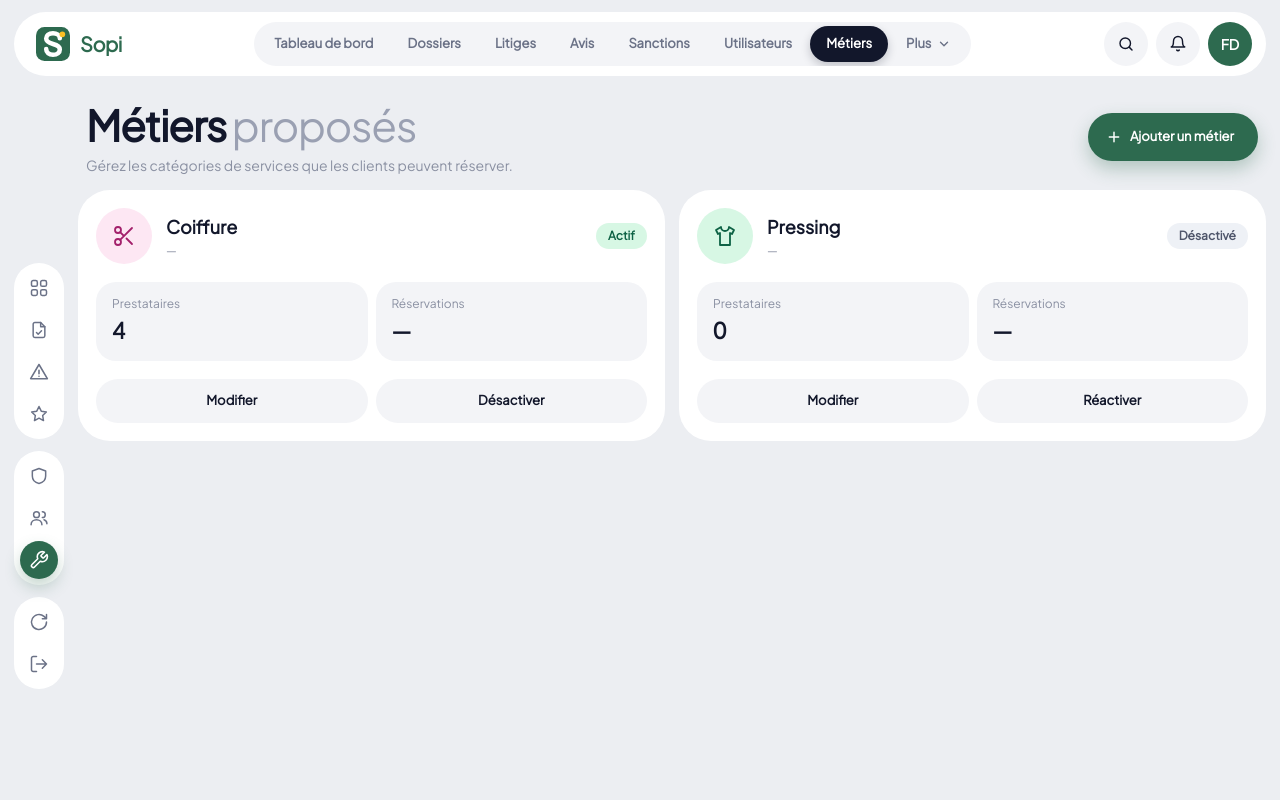
Test case: métiers › désactive un métier après confirmation (PATCH simulé)
Click the button with aria-label "Désactiver le métier Coiffure": x=511, y=401 [376, 379, 647, 423]
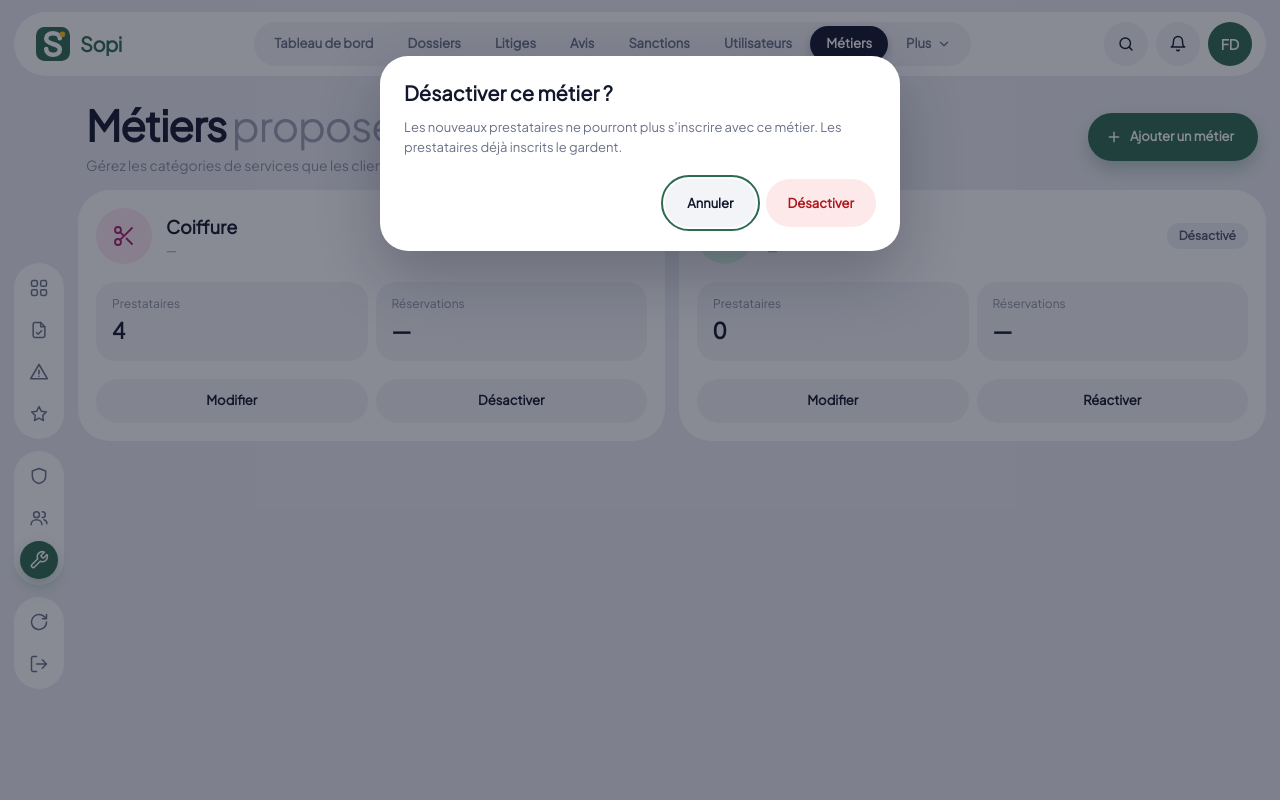
Click the button "Désactiver": x=821, y=203 [766, 179, 876, 227]
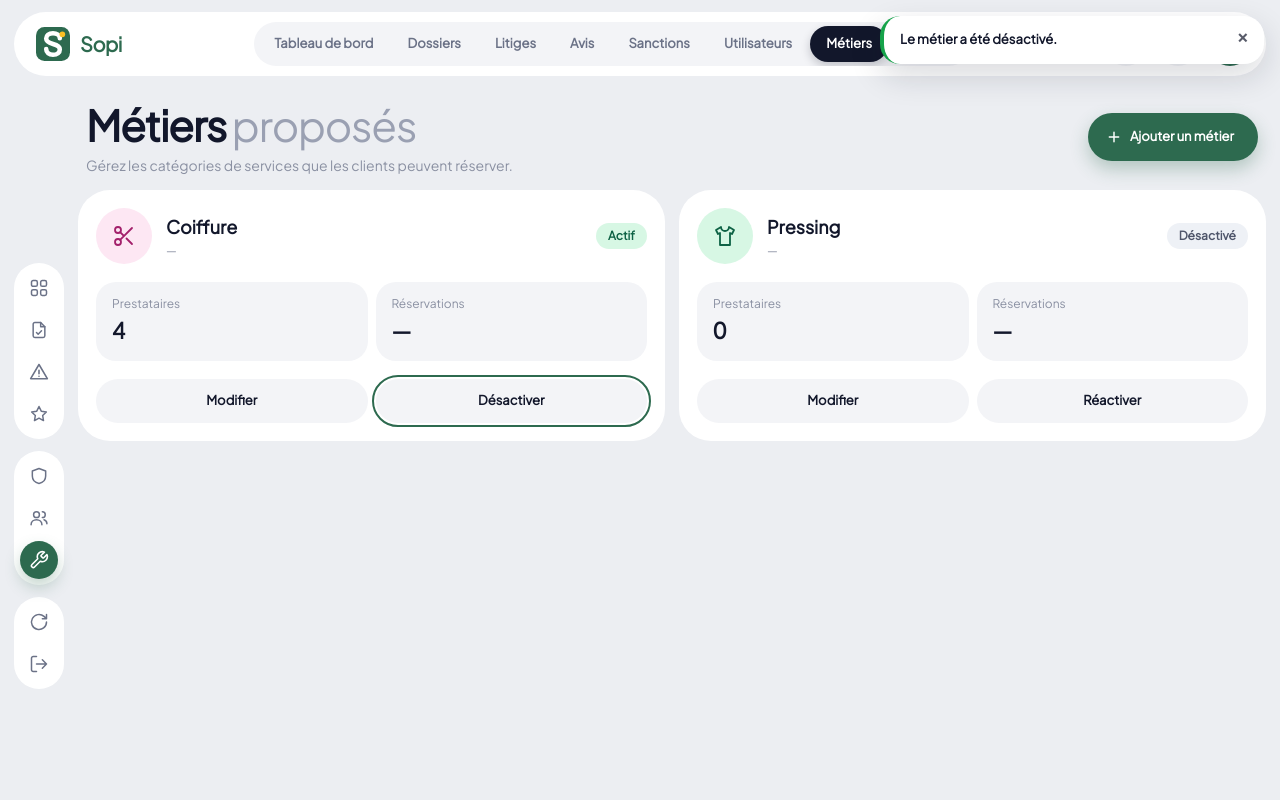
Now the text "Le métier a été désactivé." is shown, box [900, 31, 1057, 47]
